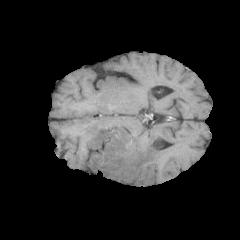glioma: (87, 122, 196, 176)
